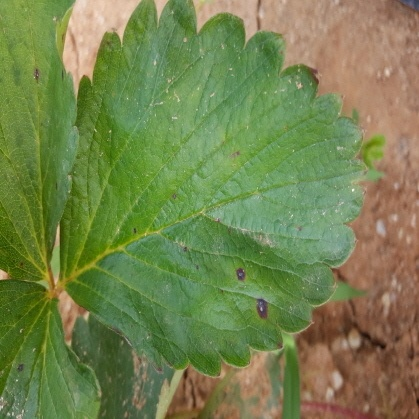Leaf_Spot: (58, 41, 369, 418), (0, 0, 103, 291), (0, 131, 81, 418)
